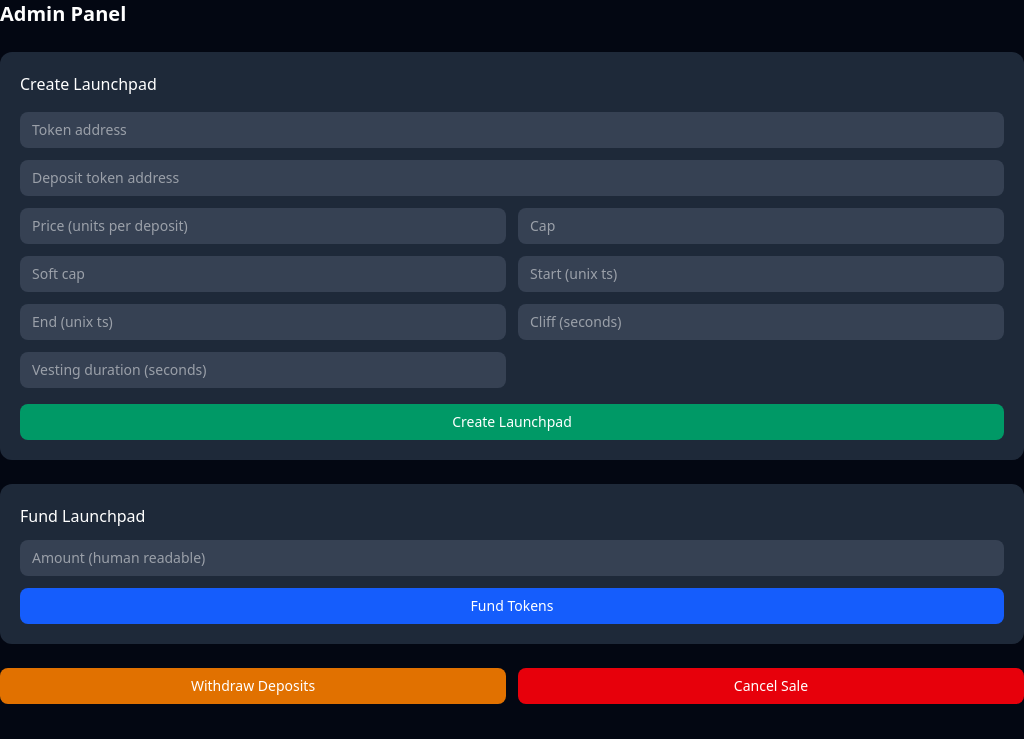
it: AdminPanel › handleWithdraw shows error on failure
What coordinates should you click on to do the following:
click the button "Withdraw Deposits"
I would click on:
 (253, 686)
Its box is [0,668,506,704].
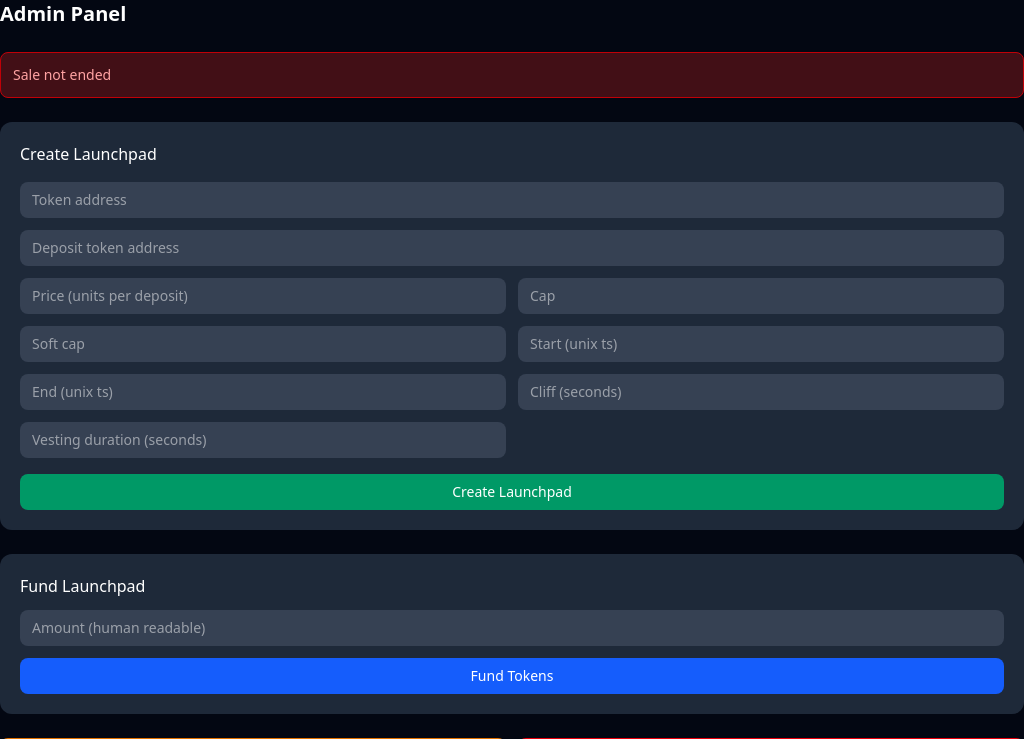
Expected: the text "Sale not ended" is shown, [0,52,1023,98]
